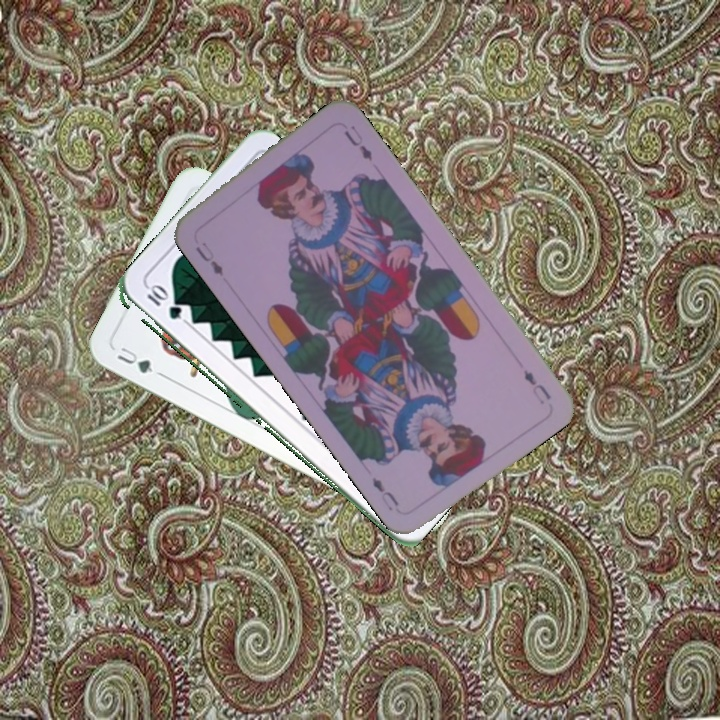EU: (191, 237, 226, 279), (519, 365, 554, 407)
G10: (143, 283, 184, 323)
GU: (113, 343, 156, 376)
